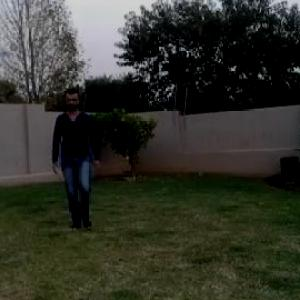follow: (56, 89, 100, 228)
